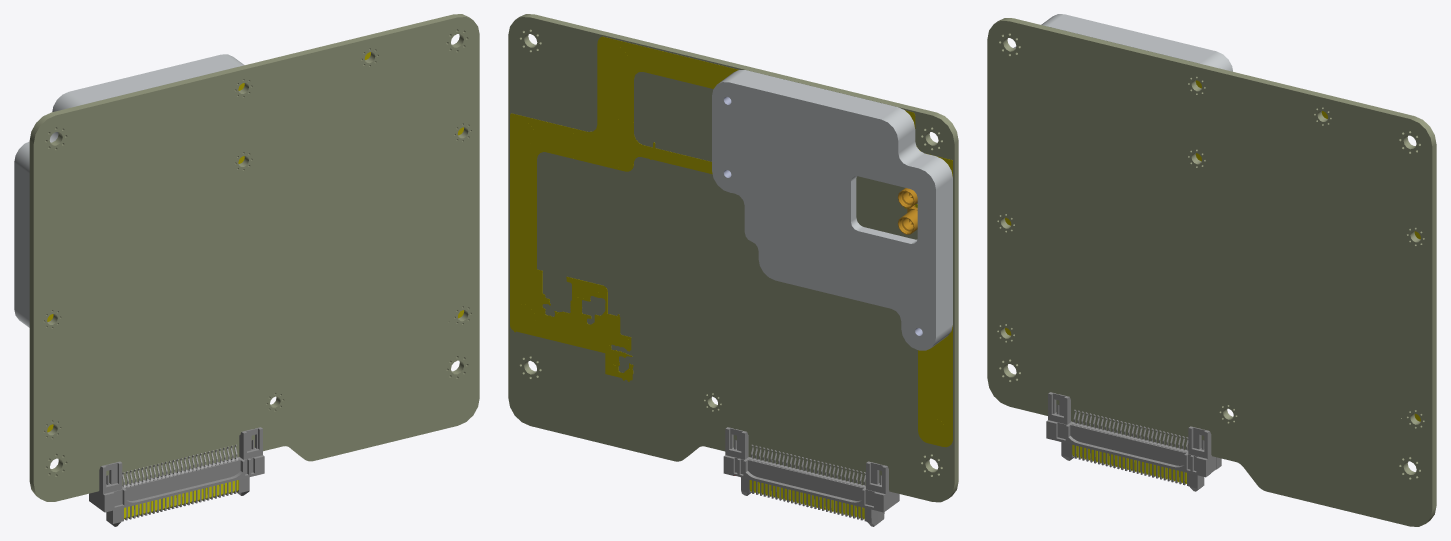
Rendered from sband.glb.
The picture shows the model from 3 angles, left to right: view 1: azimuth 30°, elevation 25°; view 2: azimuth 150°, elevation 25°; view 3: azimuth 330°, elevation 25°; orthographic projection.
Visible parts, largest first — view 1: board, if_0, parts; view 2: board, parts, if_0; view 3: board, if_0, parts.
Boxes of the visible parts, x1,y1,x2,y2 form: board: (29, 14, 479, 501); if_0: (89, 427, 264, 526); parts: (14, 54, 244, 327); board: (508, 14, 958, 502); parts: (712, 70, 952, 350); if_0: (723, 427, 899, 526); board: (987, 18, 1436, 526); if_0: (1046, 392, 1221, 491); parts: (1013, 14, 1232, 71).
Bounding box in the file's own units: 92 × 83.86 × 9.64.
